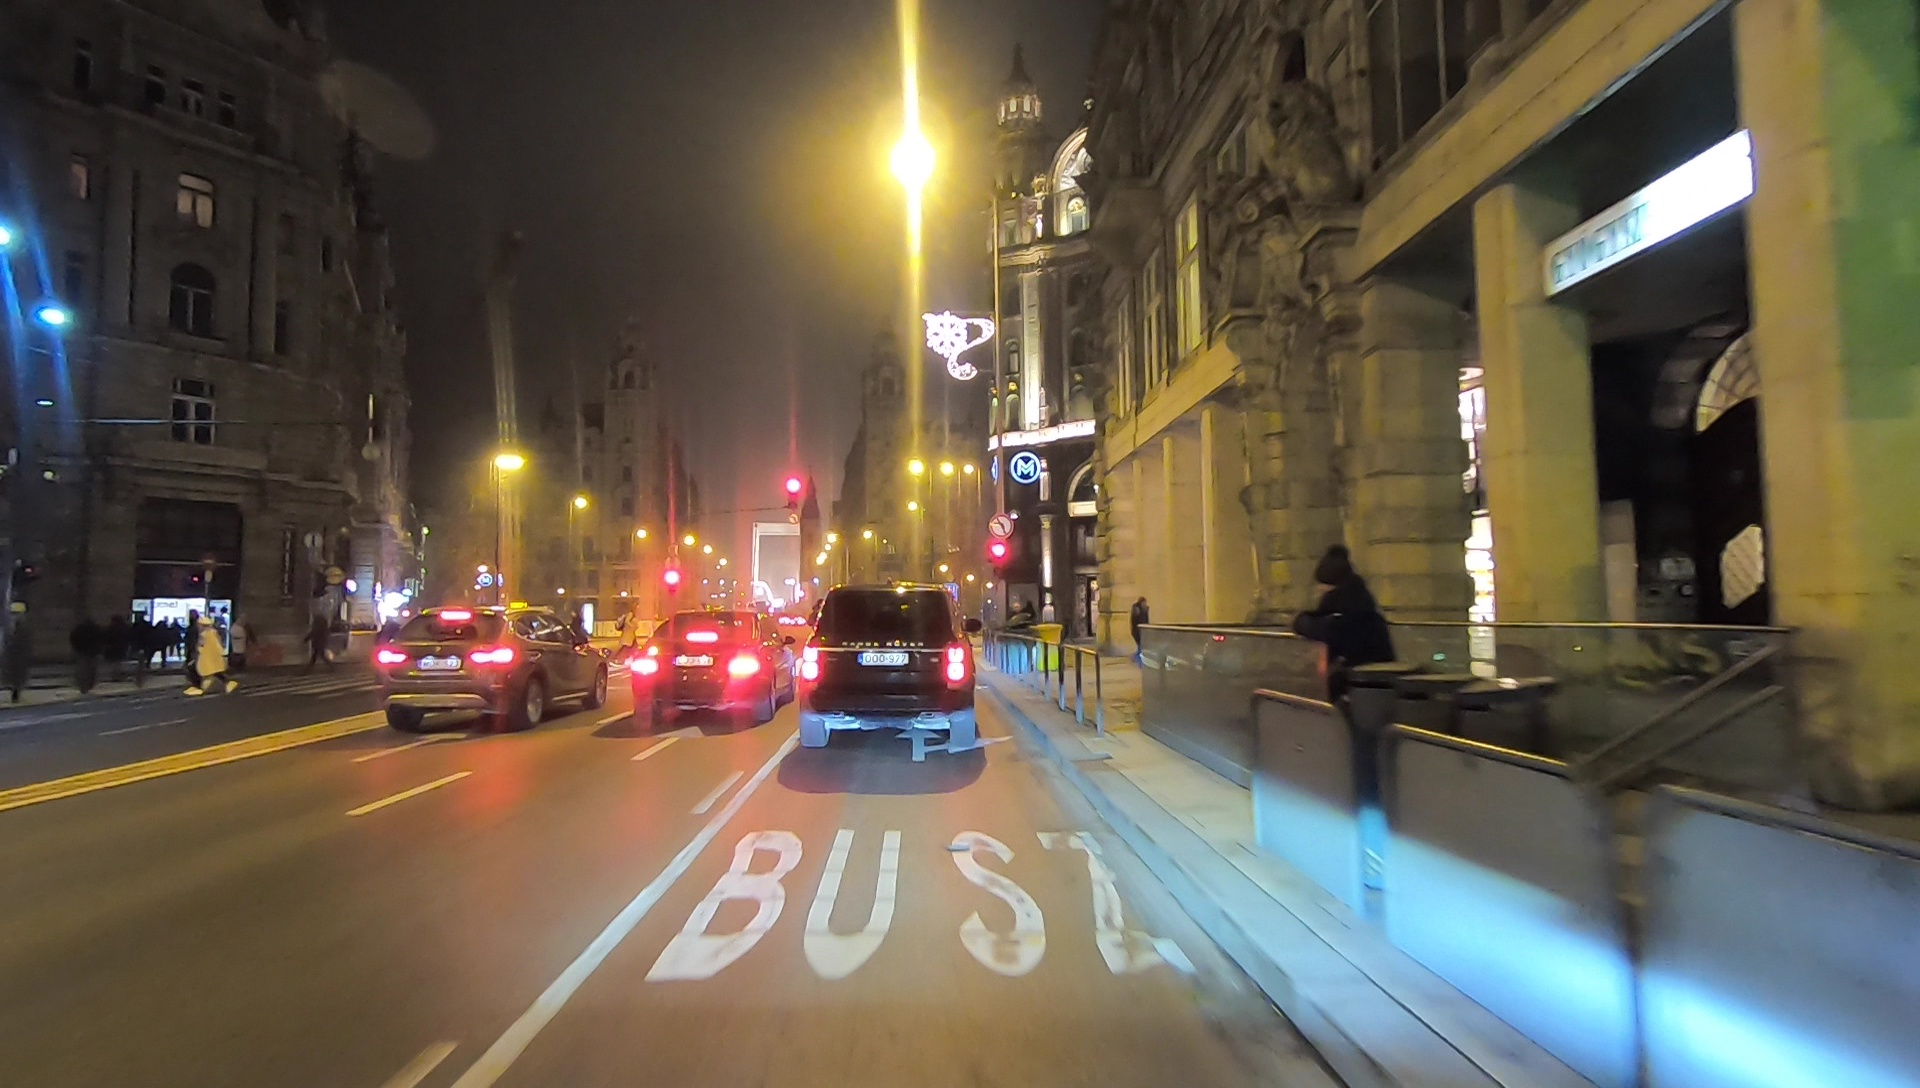person: (1297, 541, 1401, 774), (195, 616, 237, 695), (303, 610, 335, 676), (75, 613, 101, 685), (106, 611, 128, 683), (616, 604, 639, 668), (565, 608, 590, 665), (129, 609, 150, 677), (1130, 595, 1151, 661), (229, 616, 251, 673), (153, 611, 169, 670), (170, 616, 182, 661)
